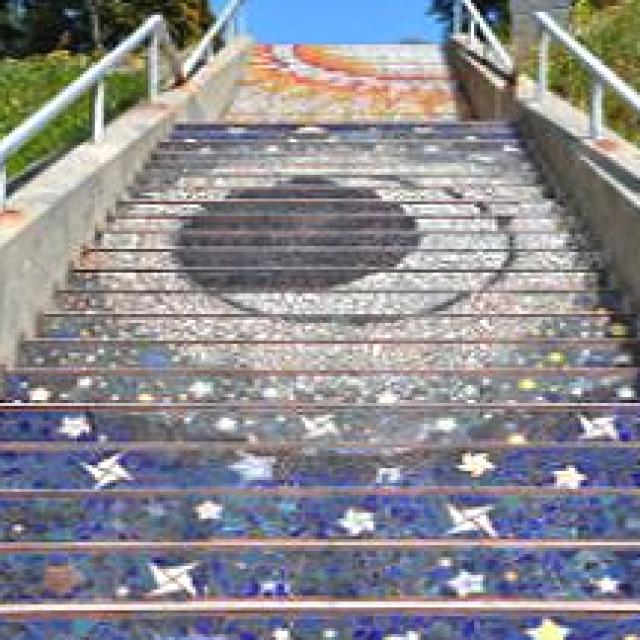upstair: (4, 321, 640, 640)
